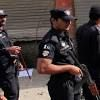gun: (65, 48, 100, 97), (14, 44, 37, 81)
uniform: (40, 24, 81, 100), (1, 11, 31, 94)
